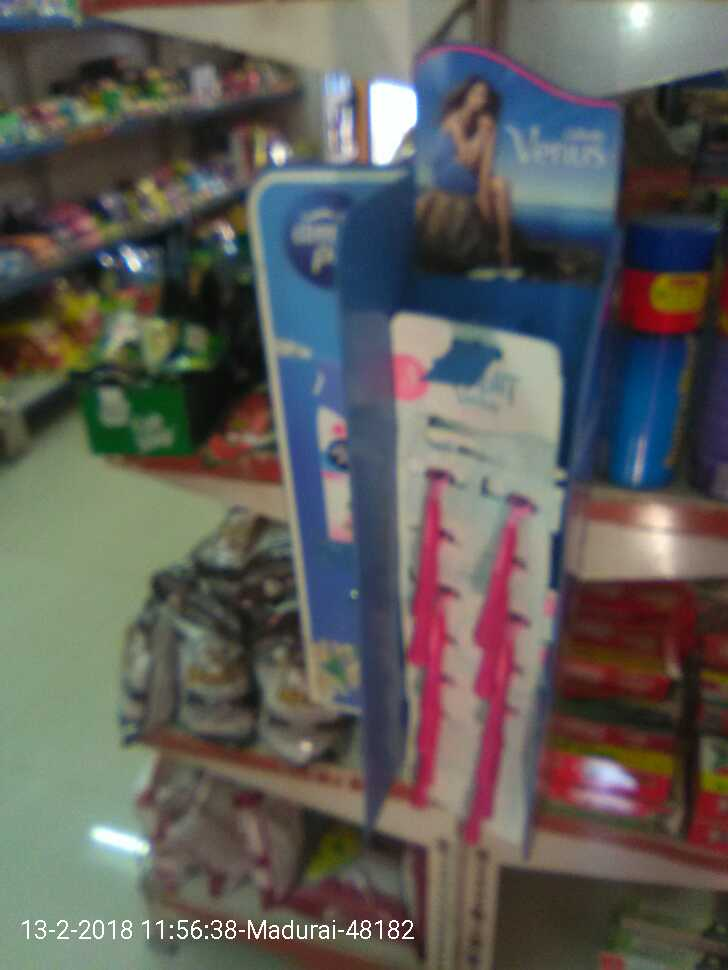reject: (317, 343, 399, 398)
